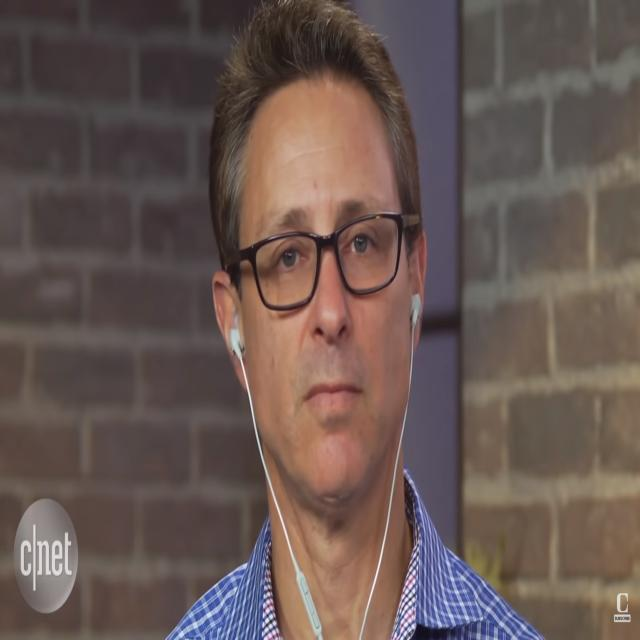Earphone: (227, 291, 422, 640)
